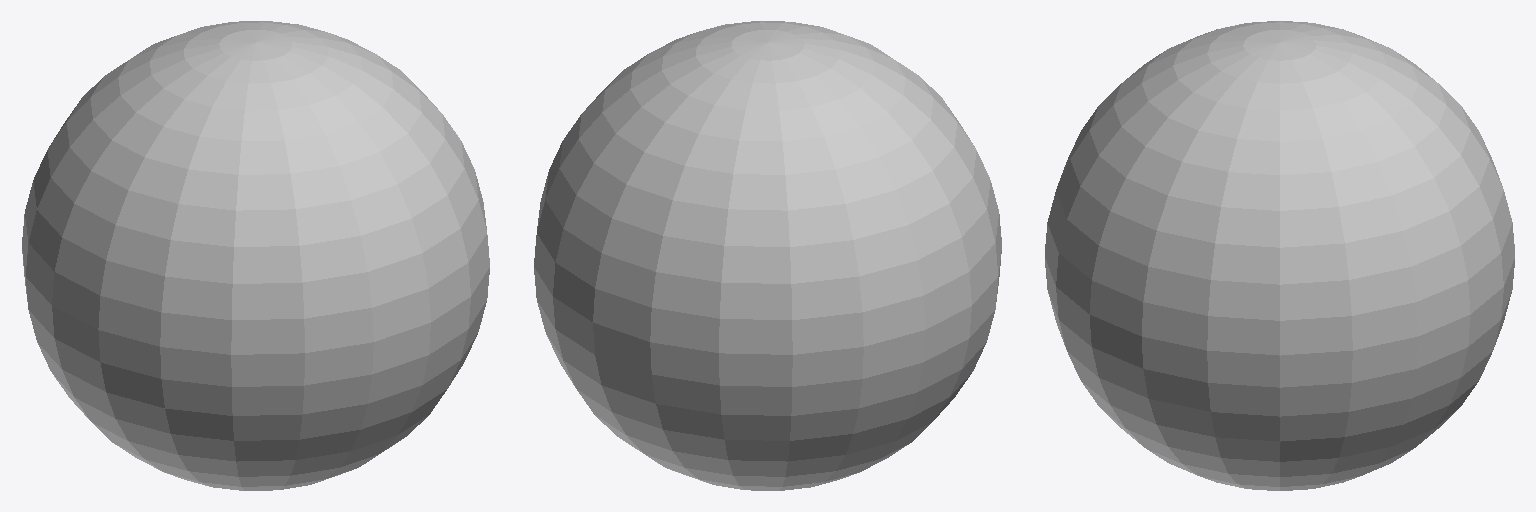
Rendered from Objeto11.obj.
3 views of the same model, side by side, from view 1: azimuth 30°, elevation 25°; view 2: azimuth 150°, elevation 25°; view 3: azimuth 270°, elevation 25° (orthographic).
Visible parts, largest first — view 1: polySurface16 estante:pCylinder5; view 2: polySurface16 estante:pCylinder5; view 3: polySurface16 estante:pCylinder5.
Boxes of the visible parts, box(x1,y1,x2,y2) form: polySurface16 estante:pCylinder5: box(22, 21, 489, 490); polySurface16 estante:pCylinder5: box(534, 21, 1001, 490); polySurface16 estante:pCylinder5: box(1045, 21, 1514, 490).
Bounding box in the file's own units: 0.2641 × 0.2641 × 0.2641.